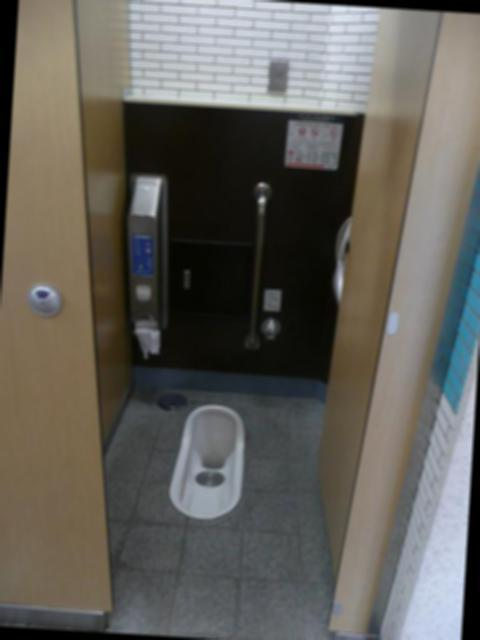Sanitario: (166, 399, 248, 530)
